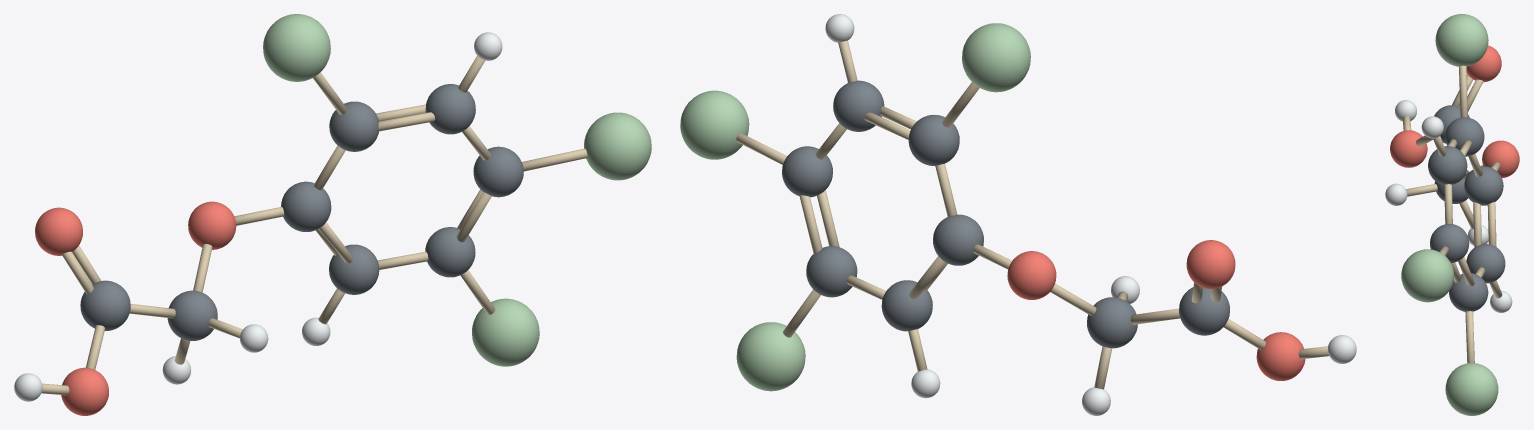
The model's file is 2-4-5-t-pubchem.glb.
3 views of the same model, side by side, from view 1: azimuth 30°, elevation 25°; view 2: azimuth 150°, elevation 25°; view 3: azimuth 270°, elevation 25° (orthographic). The views are drawn at different scales.
Parts seen in each view (by area): view 1: Atom 01 · Cl, Atom 03 · Cl, Atom 02 · Cl, Atom 07 · C, Atom 12 · C, Atom 08 · C, Atom 14 · C, Atom 11 · C, Atom 10 · C, Atom 13 · C, Atom 09 · C, Atom 06 · O (+9 smaller); view 2: Atom 01 · Cl, Atom 03 · Cl, Atom 02 · Cl, Atom 07 · C, Atom 08 · C, Atom 10 · C, Atom 12 · C, Atom 13 · C, Atom 11 · C, Atom 09 · C, Atom 04 · O, Atom 06 · O (+7 smaller); view 3: Atom 02 · Cl, Atom 03 · Cl, Atom 01 · Cl, Atom 11 · C, Atom 07 · C, Atom 10 · C, Atom 09 · C, Atom 05 · O, Atom 12 · C, Atom 08 · C, Atom 04 · O, Atom 06 · O (+20 smaller).
Part boxes in pixels (x1=…): Atom 01 · Cl: x1=263, y1=14, x2=330, y2=81; Atom 03 · Cl: x1=584, y1=112, x2=651, y2=180; Atom 02 · Cl: x1=472, y1=298, x2=539, y2=366; Atom 07 · C: x1=281, y1=181, x2=331, y2=231; Atom 12 · C: x1=473, y1=146, x2=523, y2=197; Atom 08 · C: x1=329, y1=101, x2=378, y2=151; Atom 14 · C: x1=80, y1=280, x2=130, y2=330; Atom 11 · C: x1=425, y1=84, x2=475, y2=134; Atom 10 · C: x1=425, y1=227, x2=475, y2=277; Atom 13 · C: x1=167, y1=290, x2=217, y2=340; Atom 09 · C: x1=329, y1=244, x2=379, y2=294; Atom 06 · O: x1=35, y1=207, x2=82, y2=255; Atom 01 · Cl: x1=962, y1=23, x2=1030, y2=92; Atom 03 · Cl: x1=680, y1=90, x2=749, y2=159; Atom 02 · Cl: x1=736, y1=322, x2=805, y2=391; Atom 07 · C: x1=933, y1=214, x2=983, y2=265; Atom 08 · C: x1=908, y1=114, x2=959, y2=165; Atom 10 · C: x1=806, y1=246, x2=857, y2=297; Atom 12 · C: x1=782, y1=146, x2=832, y2=197; Atom 13 · C: x1=1087, y1=297, x2=1137, y2=348; Atom 11 · C: x1=833, y1=80, x2=884, y2=131; Atom 09 · C: x1=881, y1=280, x2=932, y2=331; Atom 04 · O: x1=1007, y1=251, x2=1056, y2=299; Atom 06 · O: x1=1186, y1=240, x2=1235, y2=288; Atom 02 · Cl: x1=1445, y1=363, x2=1498, y2=415; Atom 03 · Cl: x1=1401, y1=249, x2=1454, y2=302; Atom 01 · Cl: x1=1435, y1=14, x2=1488, y2=66; Atom 11 · C: x1=1428, y1=146, x2=1467, y2=184; Atom 07 · C: x1=1464, y1=166, x2=1503, y2=205; Atom 10 · C: x1=1449, y1=273, x2=1488, y2=311; Atom 09 · C: x1=1466, y1=244, x2=1505, y2=283; Atom 05 · O: x1=1390, y1=130, x2=1427, y2=167; Atom 12 · C: x1=1430, y1=224, x2=1469, y2=262; Atom 08 · C: x1=1445, y1=117, x2=1484, y2=156; Atom 04 · O: x1=1482, y1=140, x2=1519, y2=177; Atom 06 · O: x1=1466, y1=45, x2=1501, y2=82.
Size of the model in its own units: 6.79 by 4.06 by 1.57.
